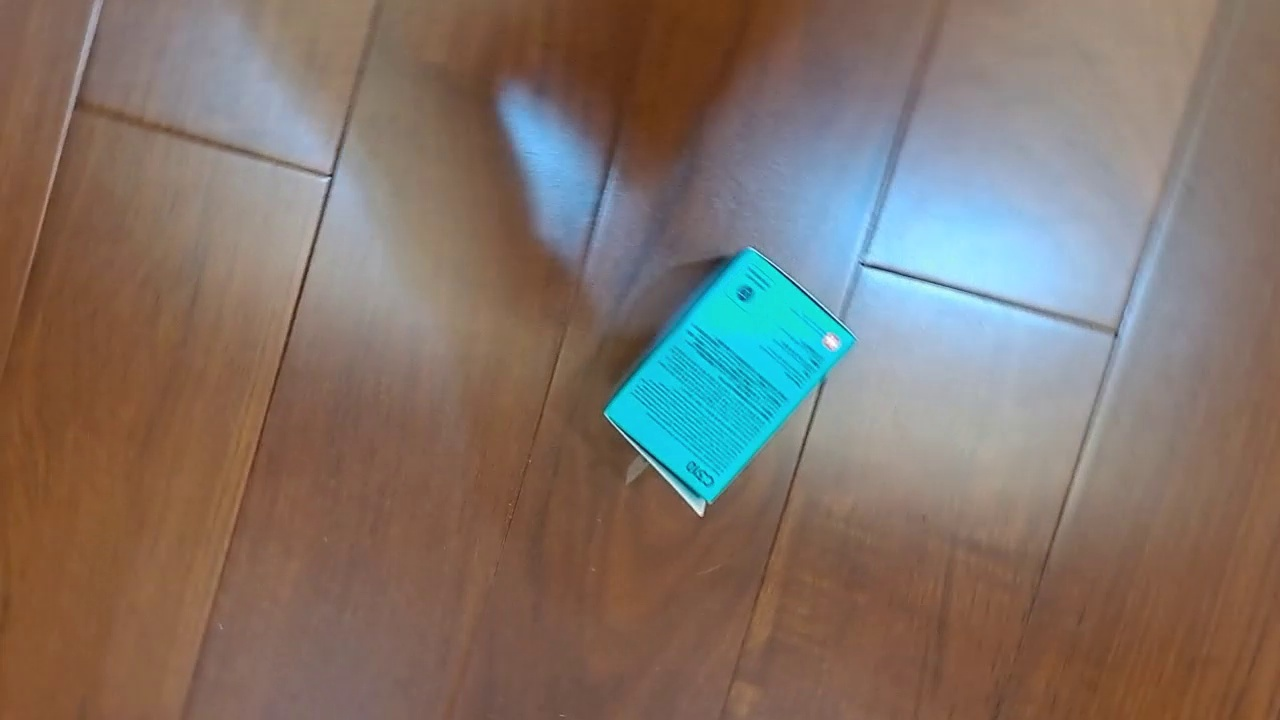webcam: (600, 244, 860, 519)
